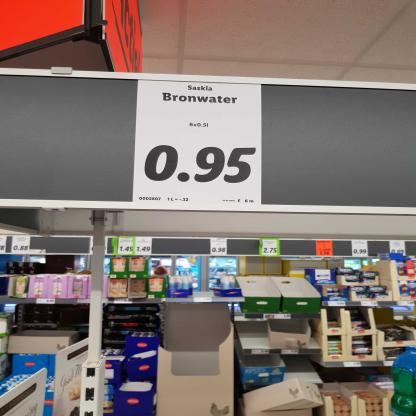prtg: (134, 81, 262, 205)
